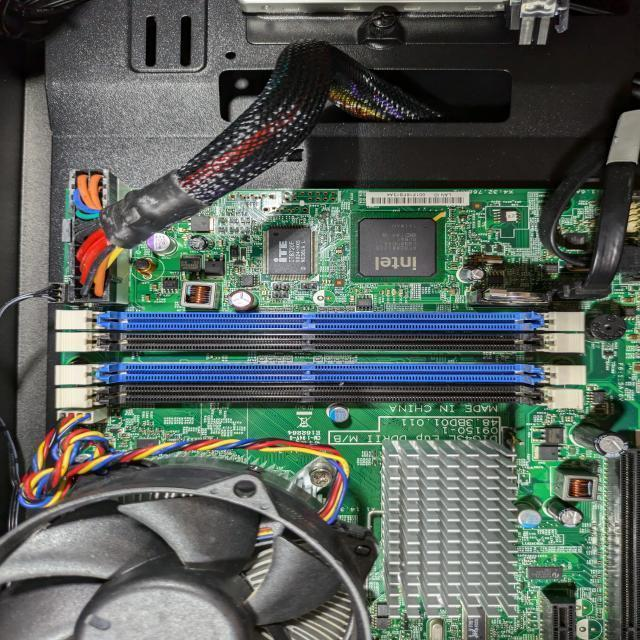CPU_Fan: (0, 451, 372, 640)
Mainboard: (65, 189, 640, 640)
